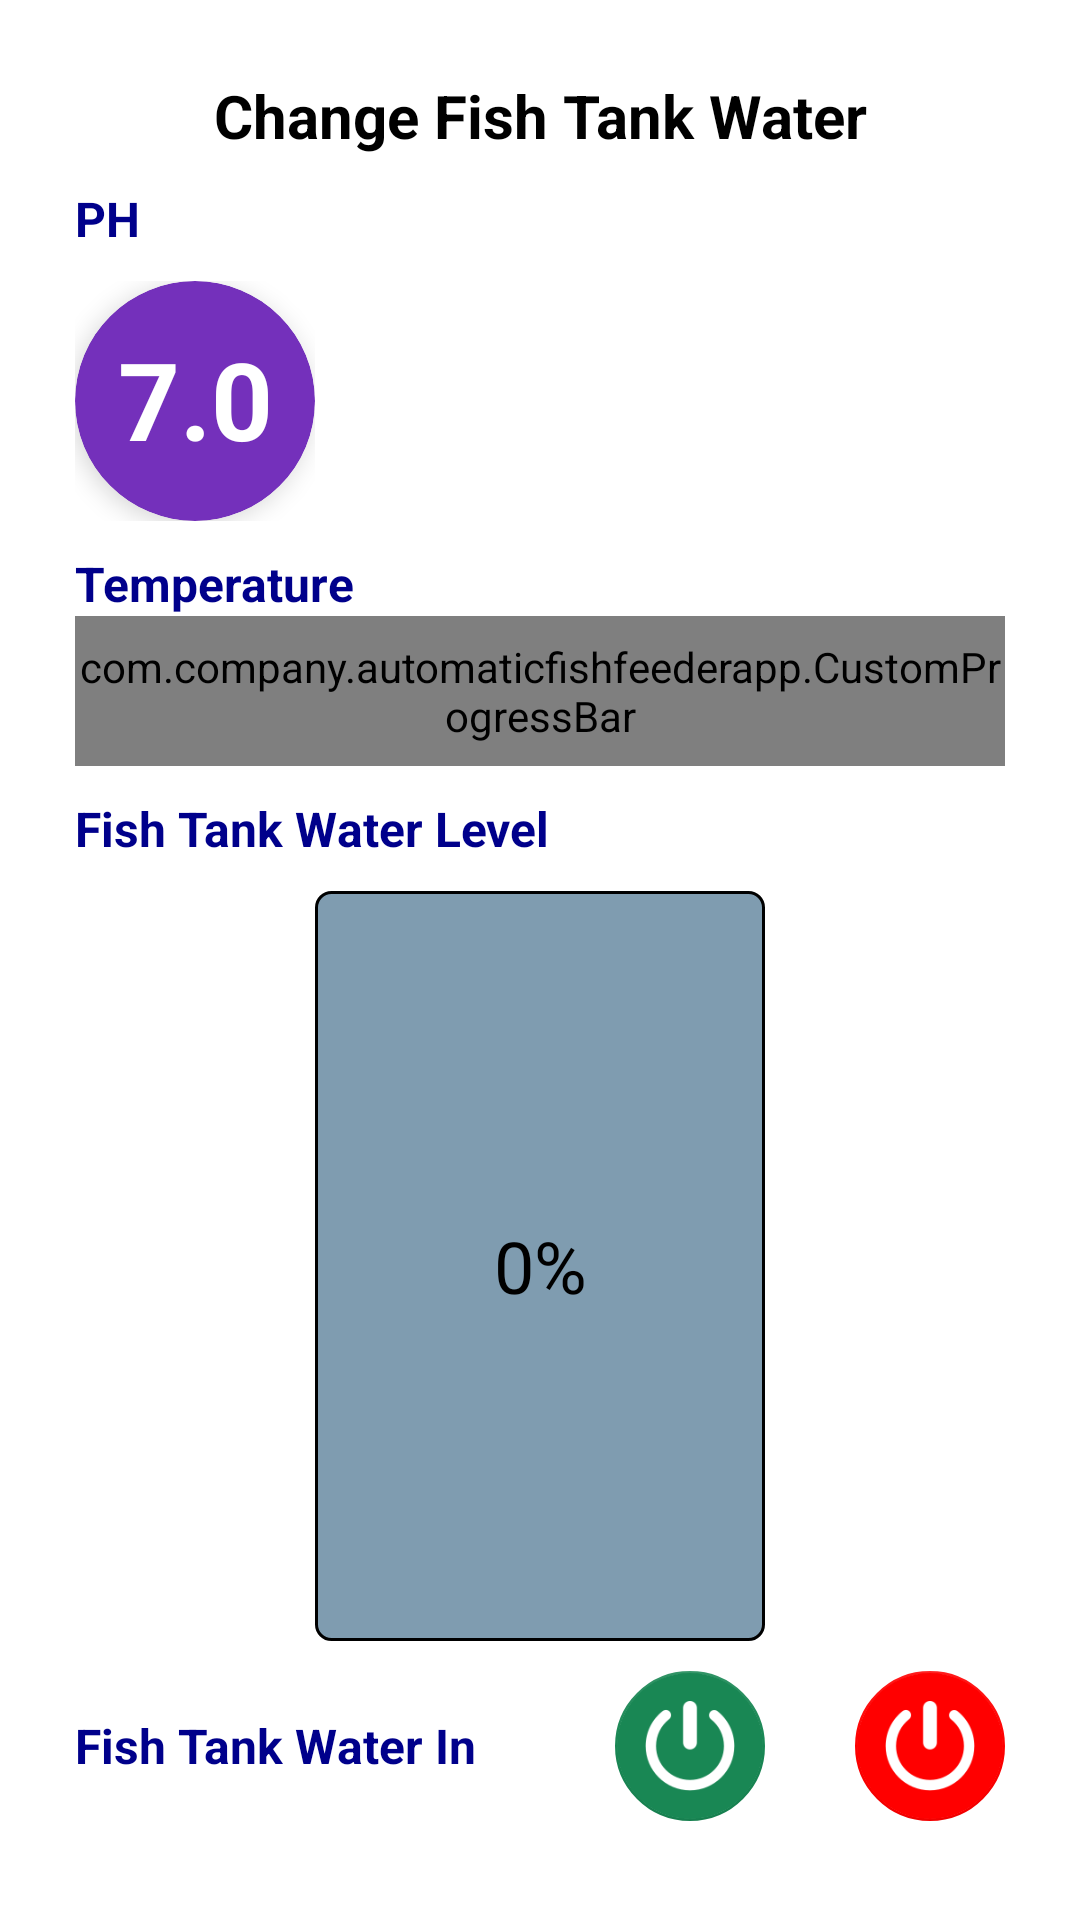

Where to tap for icons on this 1080 x 1920 app screen, as (x,y):
power: (690,1746), (930,1746)
